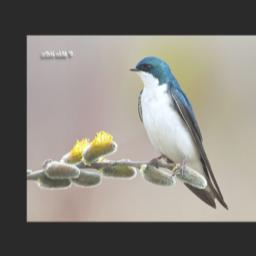Swallow: (128, 56, 229, 212)
